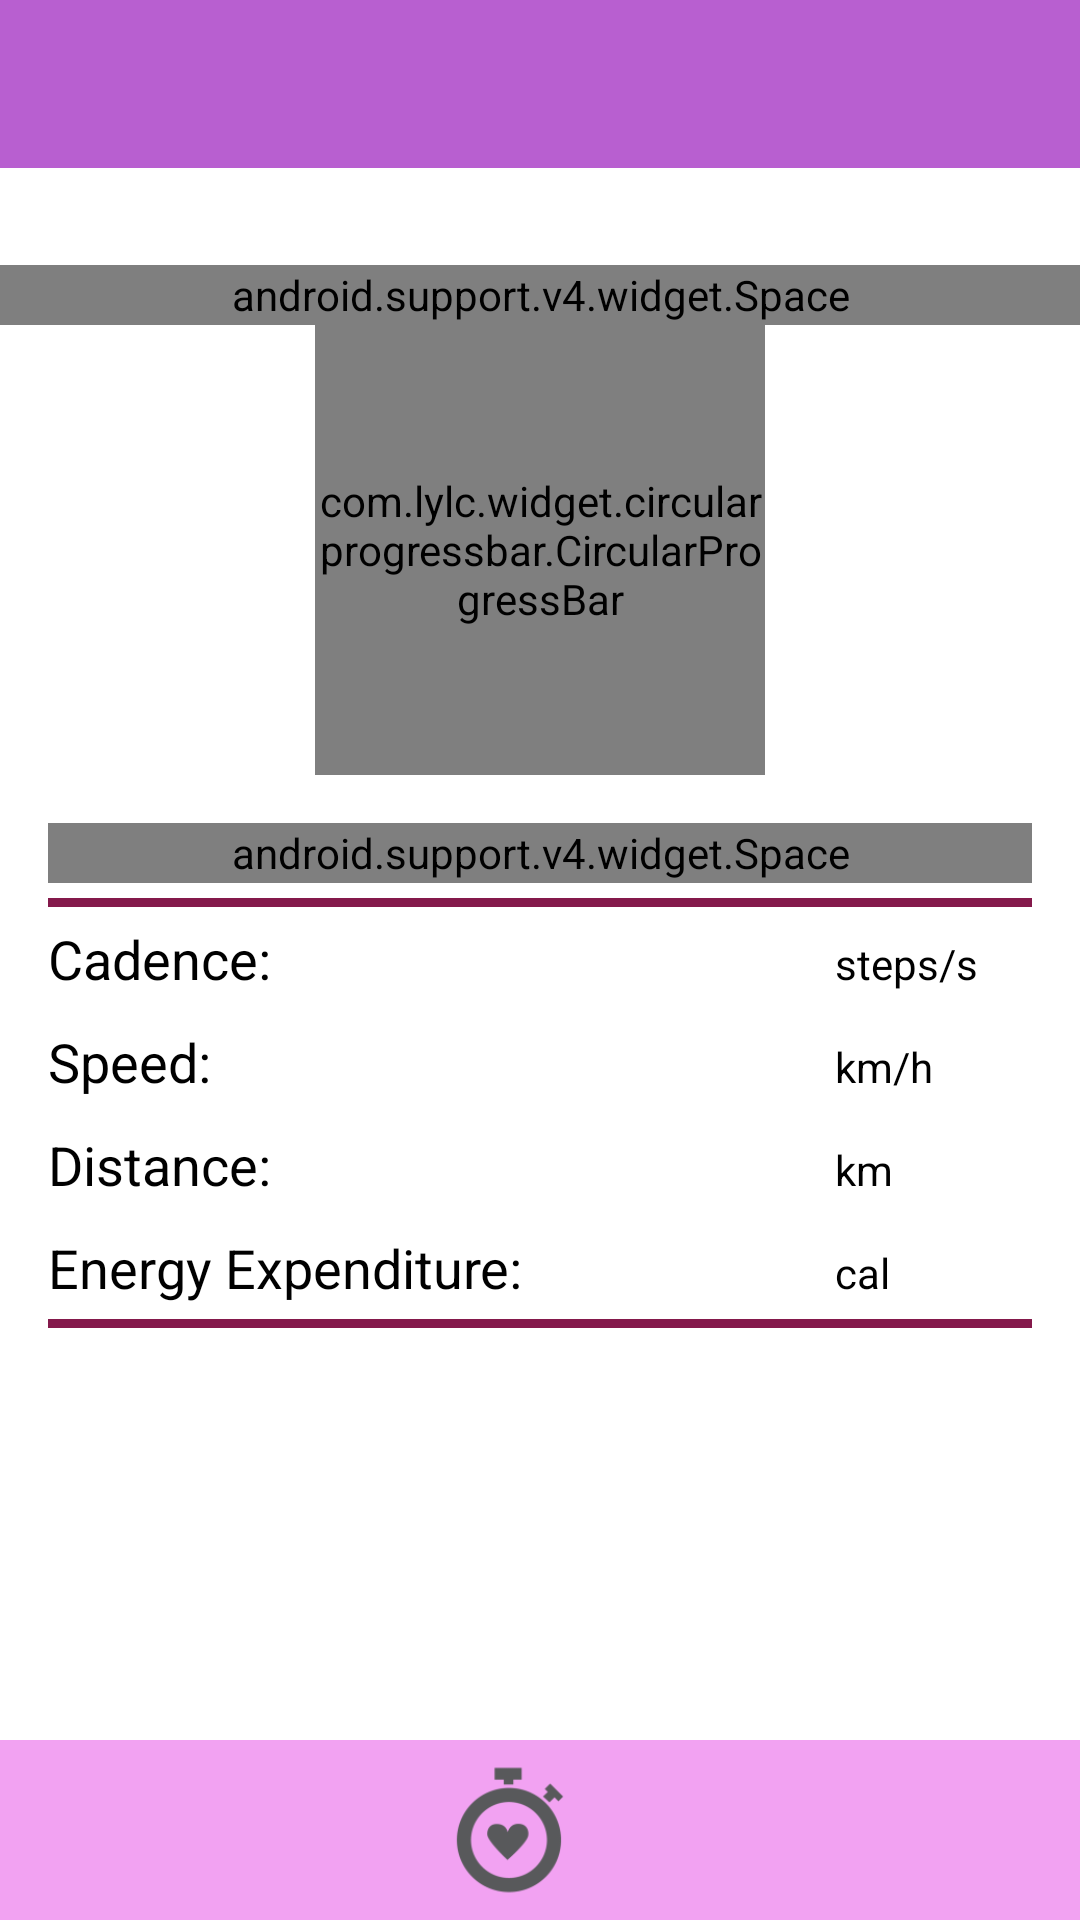

Icon bounding boxes for this 1080w x 1920h phone screenshot, format [x1, y1, x2, y2]:
heart: [456, 1767, 563, 1893]
